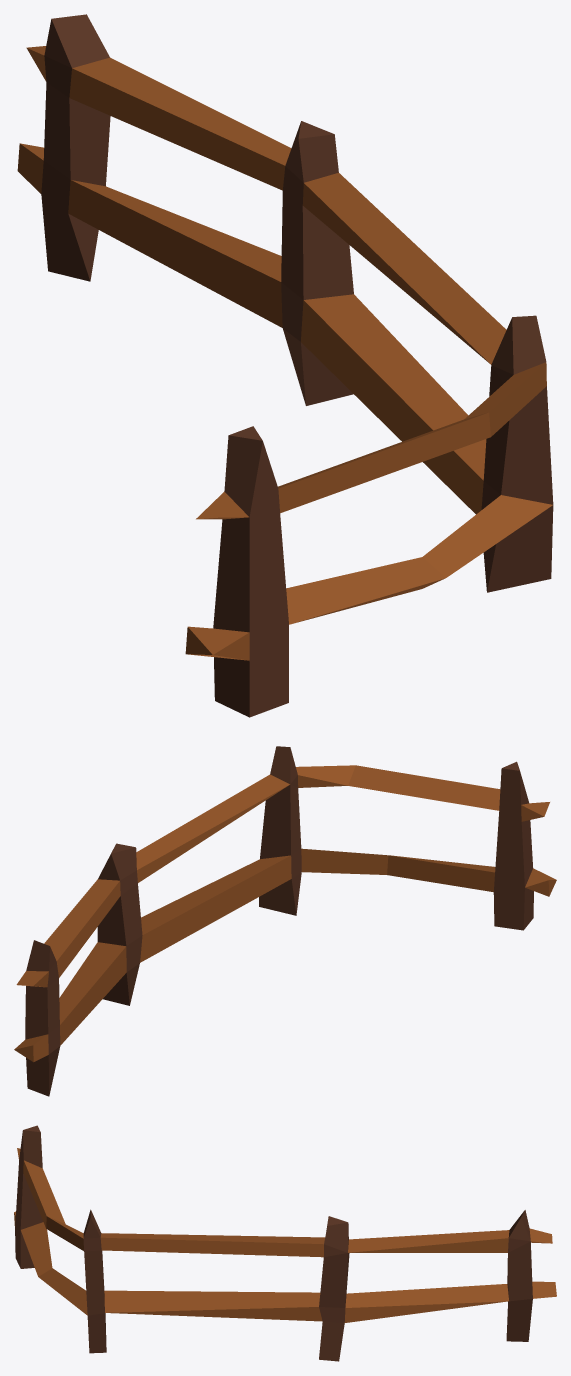
The model's file is cit2.fbx.
3 renders of one model, top to bottom at view 1: azimuth 30°, elevation 25°; view 2: azimuth 150°, elevation 25°; view 3: azimuth 270°, elevation 25°, orthographic. The views are drawn at different scales.
Parts seen in each view (by area): view 1: Cube; view 2: Cube; view 3: Cube.
Boxes of the visible parts, box(x1,y1,x2,y2) form: Cube: box(17, 14, 553, 717); Cube: box(14, 746, 556, 1096); Cube: box(14, 1125, 556, 1361).
Size of the model in its own units: 1792 by 1026 by 3603.
